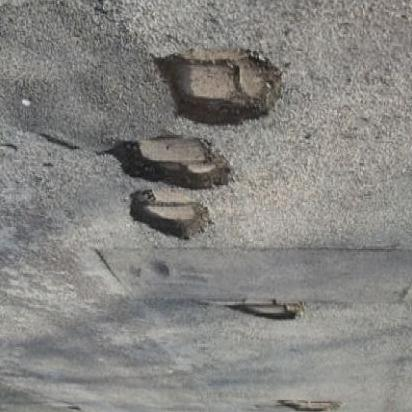pothole: (156, 39, 278, 124), (102, 133, 244, 199), (128, 197, 215, 244), (230, 292, 307, 324), (277, 396, 345, 412)
